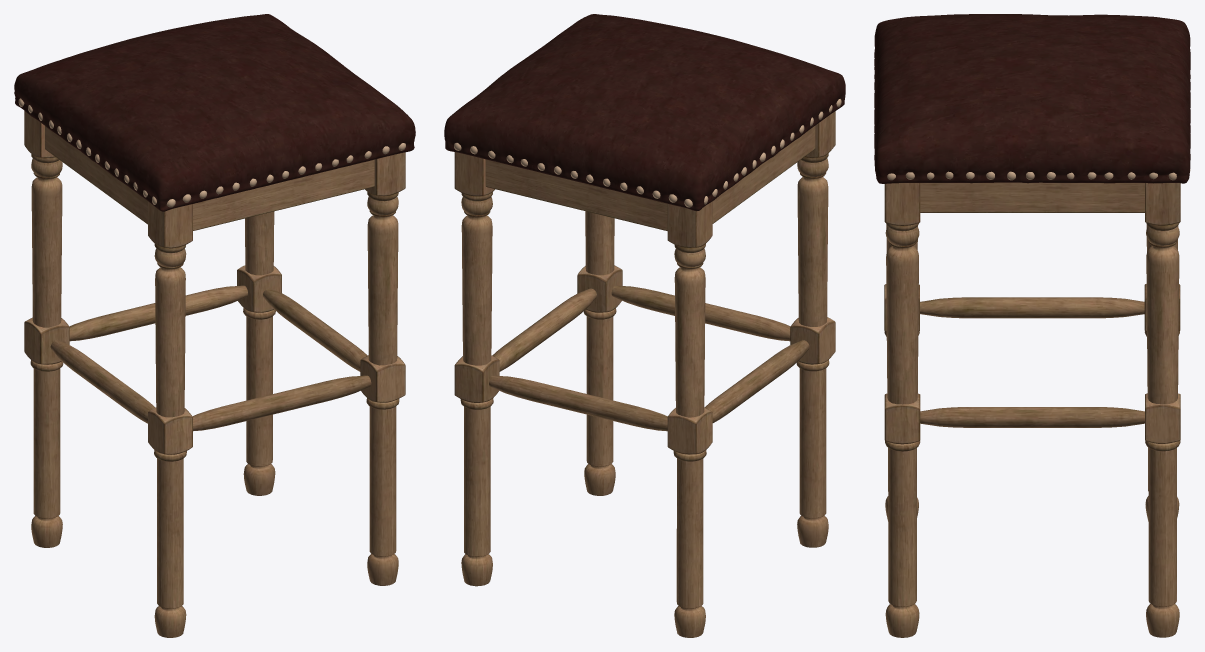
File: abo-B07DB92HJ9.glb
The picture shows the model from 3 angles, left to right: view 1: azimuth 30°, elevation 25°; view 2: azimuth 150°, elevation 25°; view 3: azimuth 270°, elevation 25°; orthographic projection. The views are drawn at different scales.
Size of the model in its own units: 0.383 by 0.7019 by 0.383.
1 material, 1 textured.
